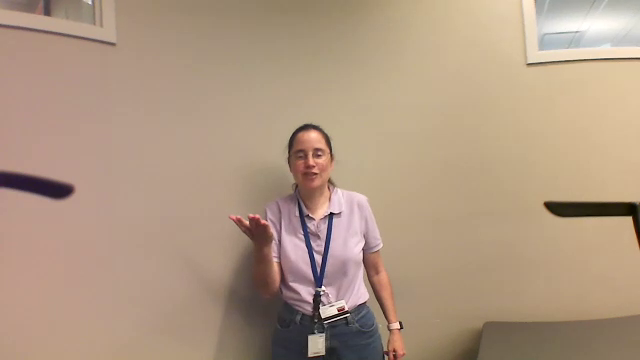land: (223, 207, 283, 252)
